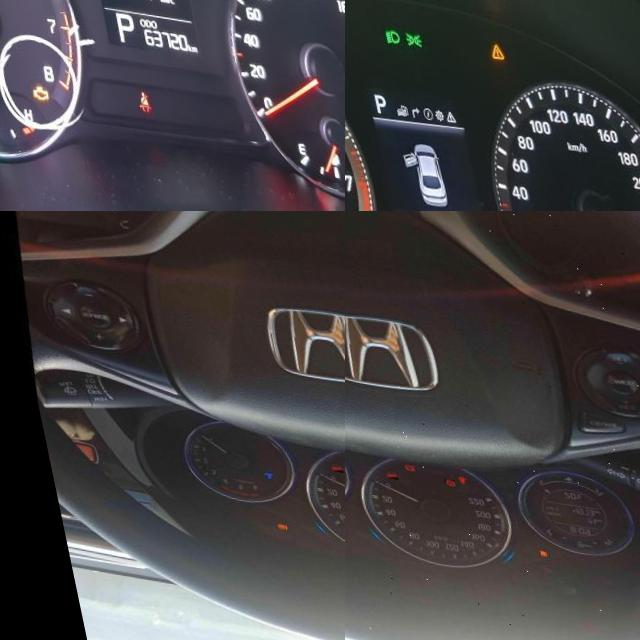Central Warning lamp: (479, 31, 495, 48)
Low beam: (374, 20, 391, 36)
SideLamp: (395, 22, 413, 38)
